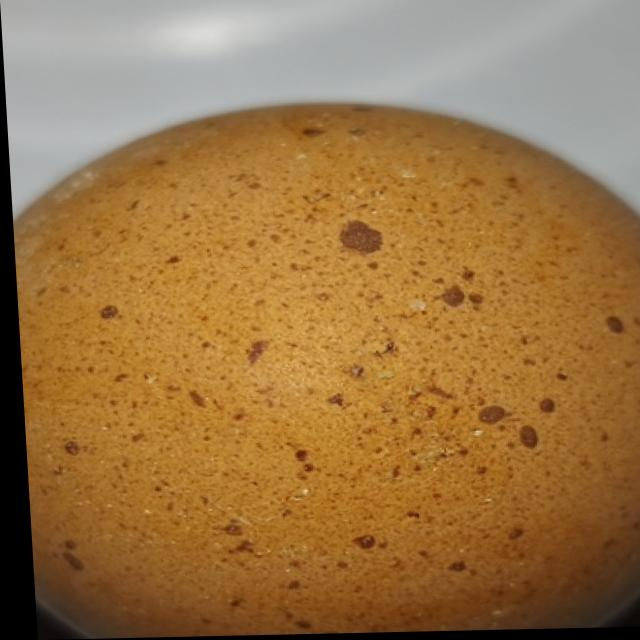unfresh: (5, 91, 640, 640)
